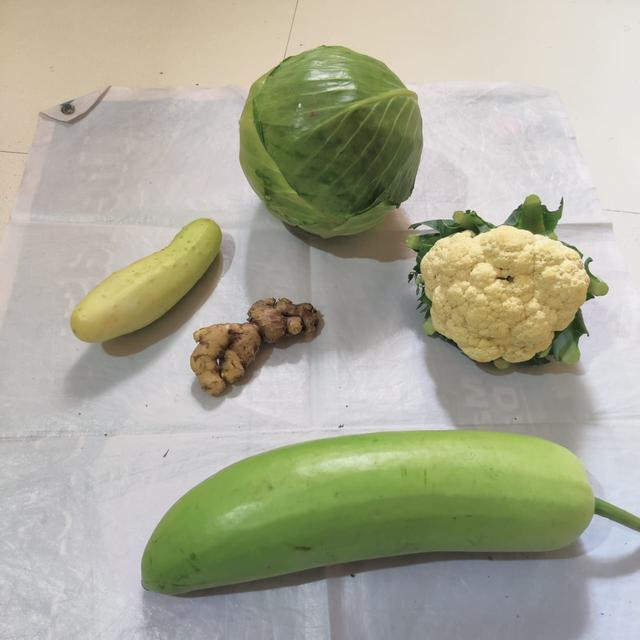Organik: (120, 415, 640, 600), (223, 35, 438, 252), (403, 200, 614, 380), (56, 208, 239, 348), (180, 288, 336, 406)
